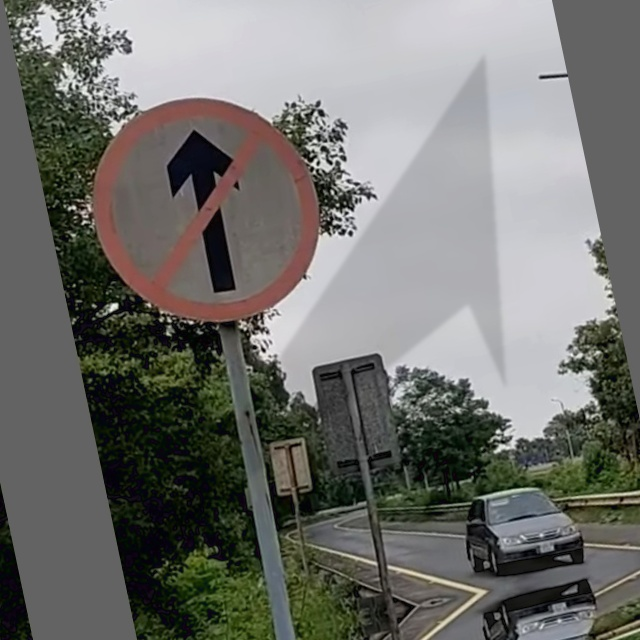No_Entry: (79, 77, 340, 344)
